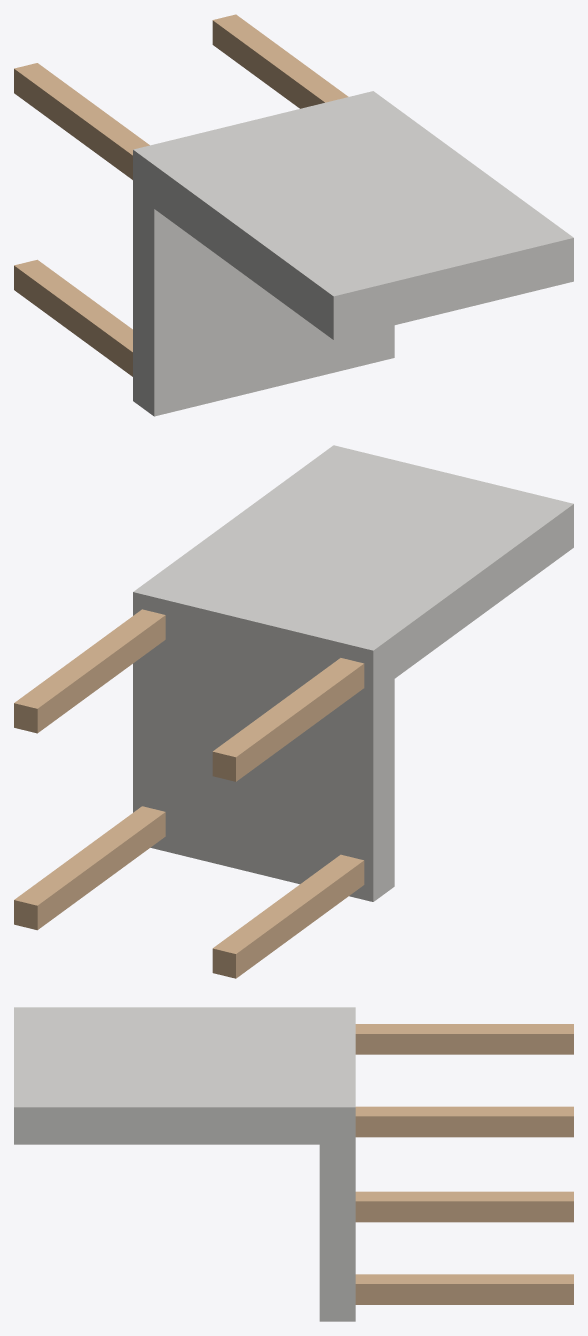
File: dining_chair.glb
The picture shows the model from 3 angles, top to bottom: view 1: azimuth 30°, elevation 25°; view 2: azimuth 150°, elevation 25°; view 3: azimuth 270°, elevation 25°; orthographic projection. The views are drawn at different scales.
Visible parts, largest first — view 1: world; view 2: world; view 3: world.
Boxes of the visible parts, x1,y1,x2,y2 form: world: [14, 14, 573, 416]; world: [14, 445, 573, 978]; world: [14, 1007, 573, 1321].
Bounding box in the file's own units: 0.46 × 0.46 × 1.09.
